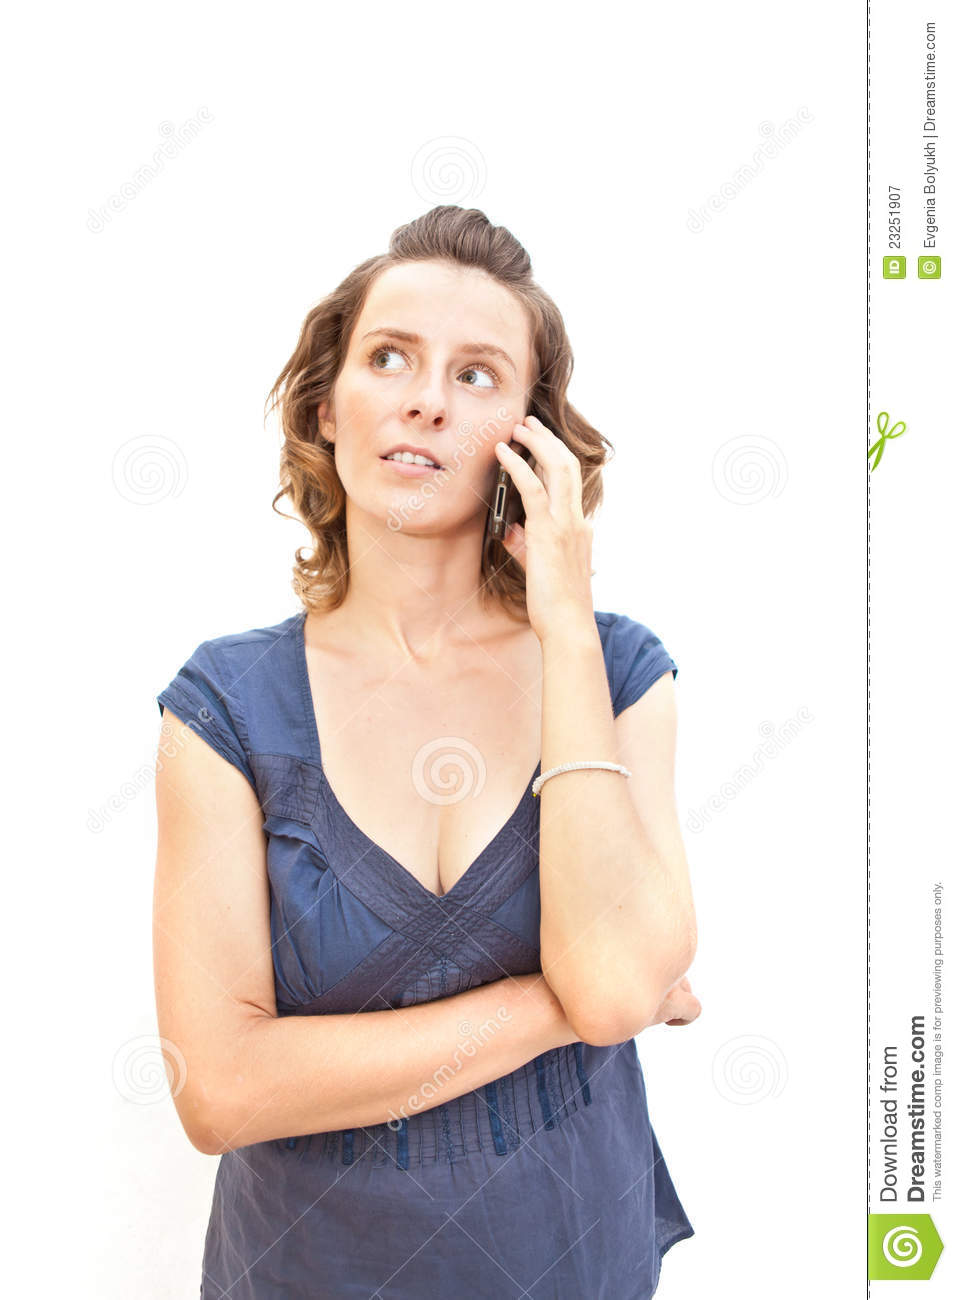phone: (472, 402, 604, 577)
talk: (332, 323, 618, 622)
